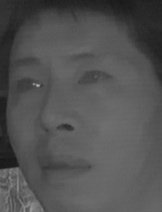eye: (76, 68, 111, 89), (14, 75, 48, 95)
mouth: (37, 151, 94, 185)
